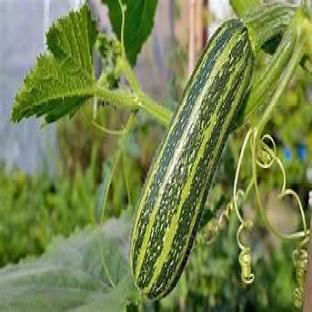Zucchini: (131, 20, 252, 298)
